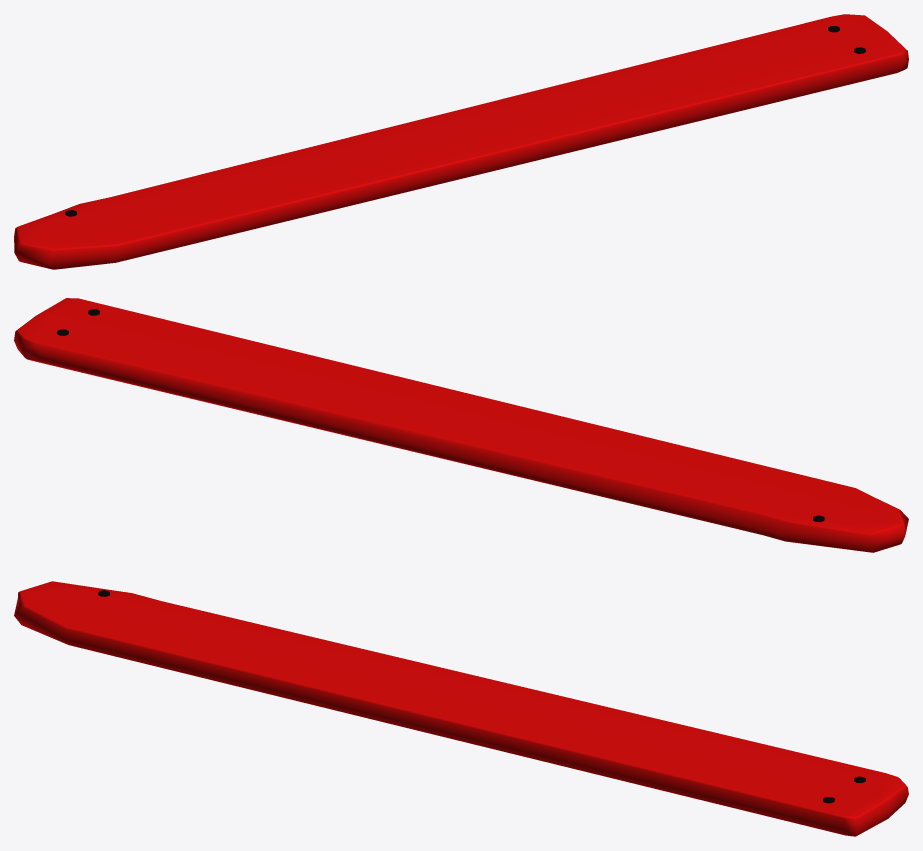
Rendered from prp_PlankC.fbx.
3 renders of one model, top to bottom at view 1: azimuth 30°, elevation 25°; view 2: azimuth 150°, elevation 25°; view 3: azimuth 330°, elevation 25°, orthographic.
Visible parts, largest first — view 1: prp_PlankC; view 2: prp_PlankC; view 3: prp_PlankC.
Boxes of the visible parts, x1,y1,x2,y2 form: prp_PlankC: (14, 14, 908, 269); prp_PlankC: (14, 298, 908, 552); prp_PlankC: (14, 581, 908, 836).
Bounding box in the file's own units: 1.87 × 0.2122 × 0.0458.
